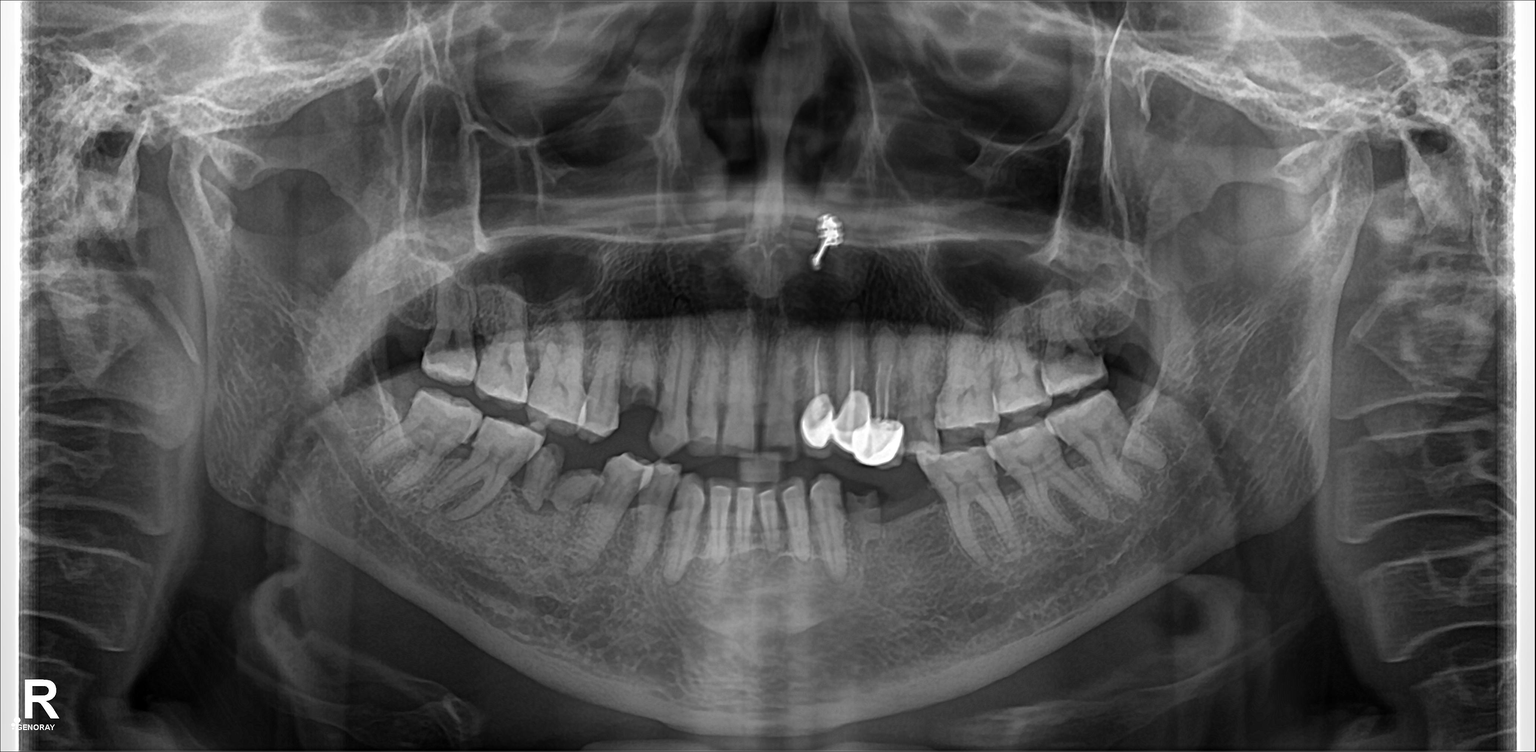Dental Caries: (613, 383, 654, 410)
Endodontically Treated Tooth: (864, 335, 898, 457), (797, 341, 830, 442), (838, 339, 866, 448)
Impacted Third Molar: (1058, 408, 1168, 483)
Missing Tooth: (1093, 274, 1140, 378), (391, 262, 429, 380), (886, 473, 934, 562)
Retained Root: (618, 333, 658, 432), (566, 450, 597, 535), (849, 471, 878, 560)
